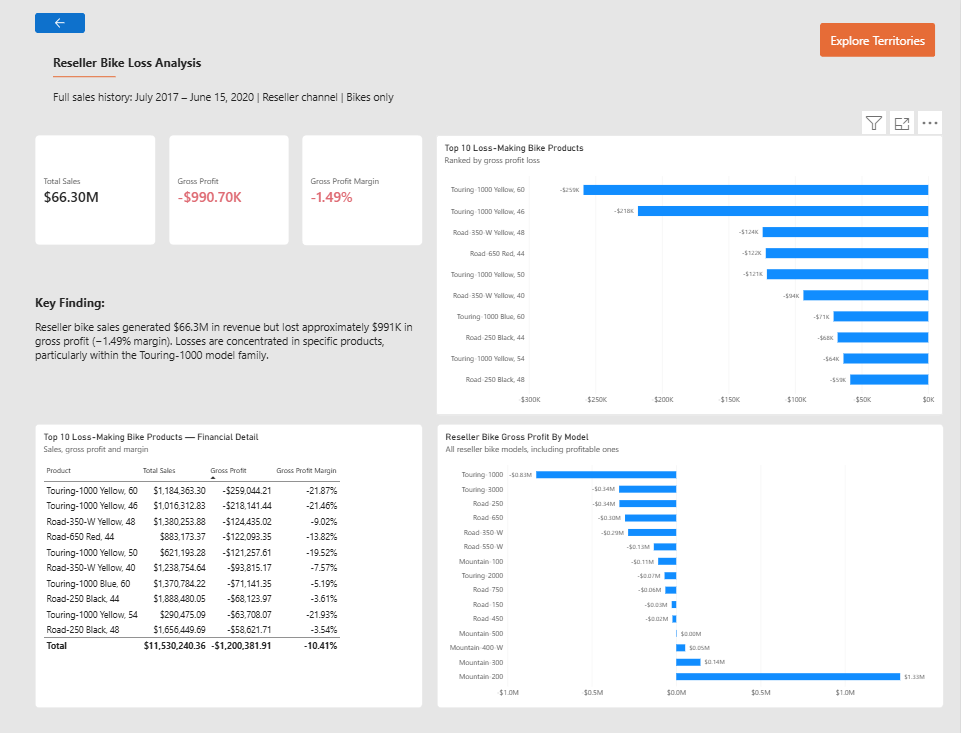

The page's visual inventory and layout, read from the dashboard file:
{"tool":"powerbi","page":{"name":"Reseller Bike Loss Analysis","canvas":[1920,1500],"ordinal":2},"visuals":[{"type":"tableEx","title":"Top 10 Loss-Making Bike Products — Financial Detail","fields":{"Values":["Product.Product","Sales.Total Sales","Sales.Gross Profit","Sales.Gross Profit Margin"]},"box":[70,848.3,775,568.3],"z":0},{"type":"cardVisual","fields":{"Data":["Sales.Total Sales"]},"box":[70,270,241.7,220],"z":1000},{"type":"cardVisual","fields":{"Data":["Sales.Gross Profit"]},"box":[338.3,270,240,220],"z":2000},{"type":"cardVisual","fields":{"Data":["Sales.Gross Profit Margin"]},"box":[603.3,270,241.7,221.7],"z":3000},{"type":"clusteredBarChart","title":"Top 10 Loss-Making Bike Products","fields":{"Category":["Product.Product"],"Y":["Sales.Gross Profit"]},"box":[872.9,269.5,1013.6,561],"z":4000},{"type":"clusteredBarChart","title":"Reseller Bike Gross Profit By Model","fields":{"Category":["Product.Model"],"Y":["Sales.Gross Profit"]},"box":[873.3,848.3,1013.3,568.3],"z":5000},{"type":"textbox","box":[105,108.3,703.3,113.3],"z":6000},{"type":"textbox","box":[70,588.3,775,150],"z":7000},{"type":"actionButton","box":[70,25,100,40],"z":8000},{"type":"shape","box":[105.1,127.1,125.4,50.8],"z":9000},{"type":"actionButton","box":[1640.7,45.8,230.5,67.8],"z":10000}]}

Visuals, with their boxes in screenshot pixels (x1, y1, x2, y2), scaled from the page's 1920x1500 canvas onto the 961x733 screenshot:
"Top 10 Loss-Making Bike Products — Financial Detail" tableEx: [35, 415, 423, 692]
cardVisual - Sales.Total Sales: [35, 132, 156, 239]
cardVisual - Sales.Gross Profit: [169, 132, 289, 239]
cardVisual - Sales.Gross Profit Margin: [302, 132, 423, 240]
"Top 10 Loss-Making Bike Products" clusteredBarChart: [437, 132, 944, 406]
"Reseller Bike Gross Profit By Model" clusteredBarChart: [437, 415, 944, 692]
textbox: [53, 53, 405, 108]
textbox: [35, 287, 423, 361]
actionButton: [35, 12, 85, 32]
shape: [53, 62, 115, 87]
actionButton: [821, 22, 937, 56]
